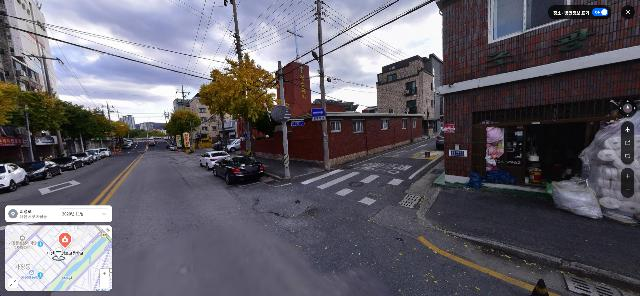ginkgo: (198, 52, 282, 151)
other: (1, 81, 58, 165), (49, 97, 86, 156), (166, 106, 202, 150), (85, 107, 110, 146)
